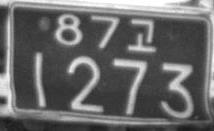1: (22, 52, 55, 108)
2: (67, 54, 103, 113)
3: (160, 62, 195, 119)
7: (113, 56, 148, 114), (91, 14, 121, 48)
8: (54, 13, 83, 46)
고: (126, 18, 157, 53)
